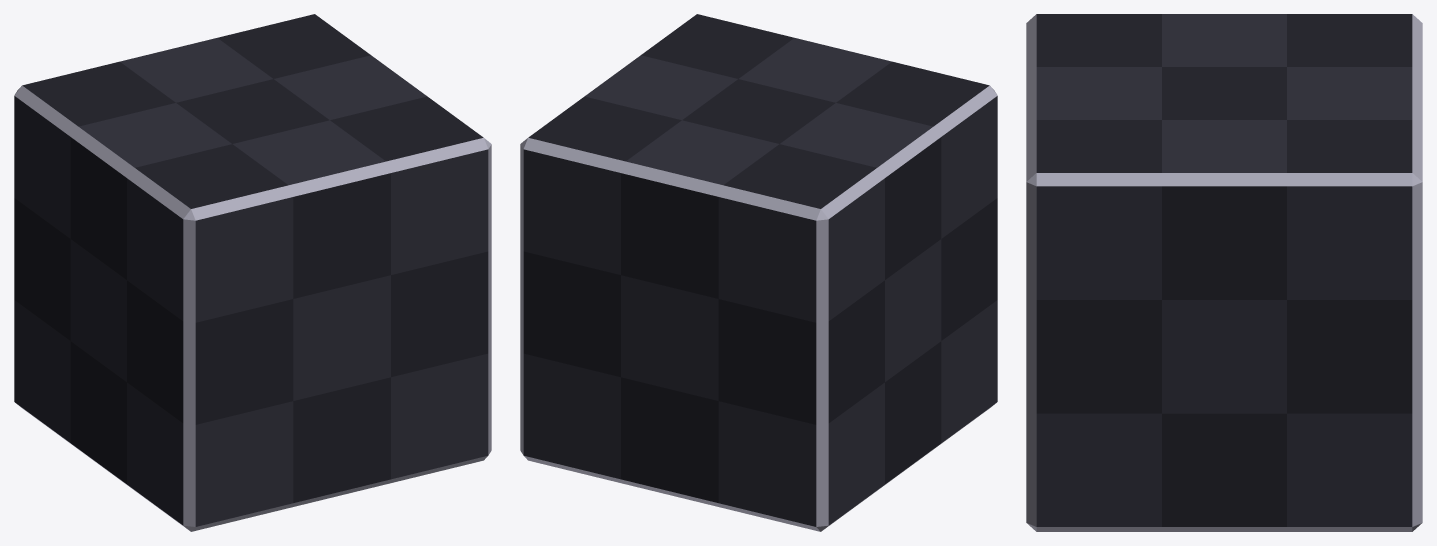
File: PMP-M-Ground-Main-1x1x1-V1.fbx
3 views of the same model, side by side, from view 1: azimuth 30°, elevation 25°; view 2: azimuth 150°, elevation 25°; view 3: azimuth 270°, elevation 25° (orthographic). The views are drawn at different scales.
Visible parts, largest first — view 1: MONO-Terrain-A-1x1x1; view 2: MONO-Terrain-A-1x1x1; view 3: MONO-Terrain-A-1x1x1.
Boxes of the visible parts, x1,y1,x2,y2 form: MONO-Terrain-A-1x1x1: (14,14,491,531); MONO-Terrain-A-1x1x1: (520,14,997,531); MONO-Terrain-A-1x1x1: (1026,14,1422,531).
Size of the model in its own units: 100 by 100 by 100.
